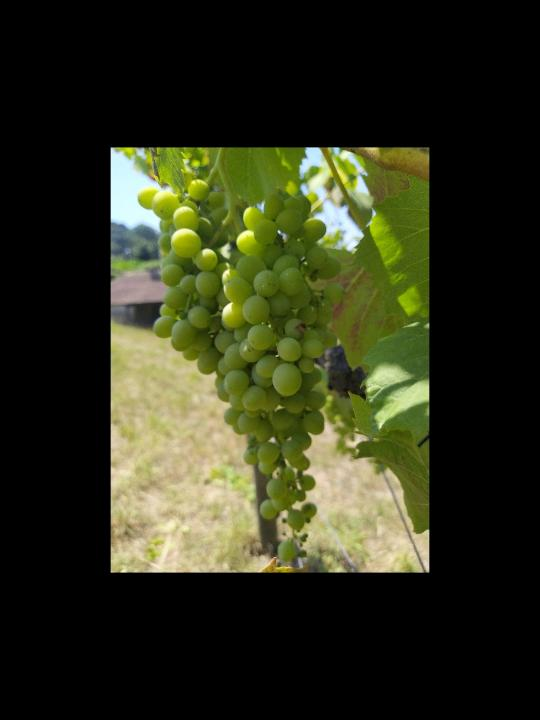grape: (135, 179, 349, 568)
